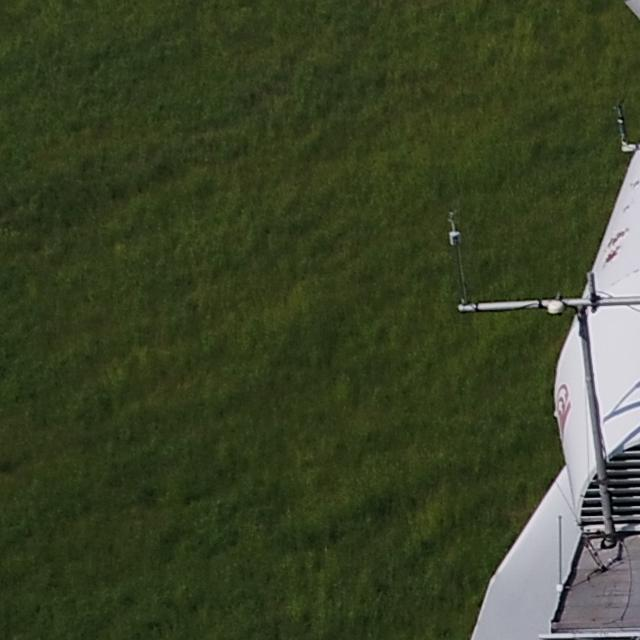damage: (607, 226, 631, 247), (602, 248, 623, 267), (629, 180, 640, 189), (622, 204, 630, 213)
